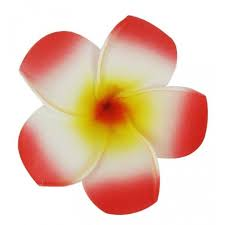frangipani: (19, 17, 210, 214)
